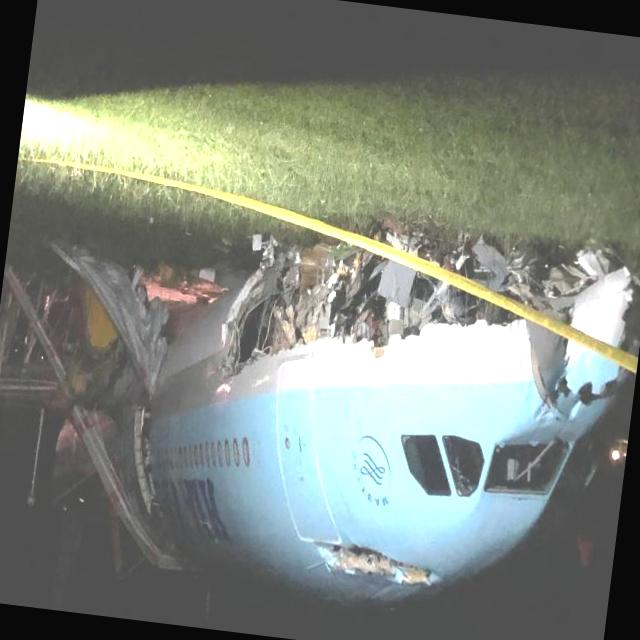crack: (306, 529, 448, 596)
